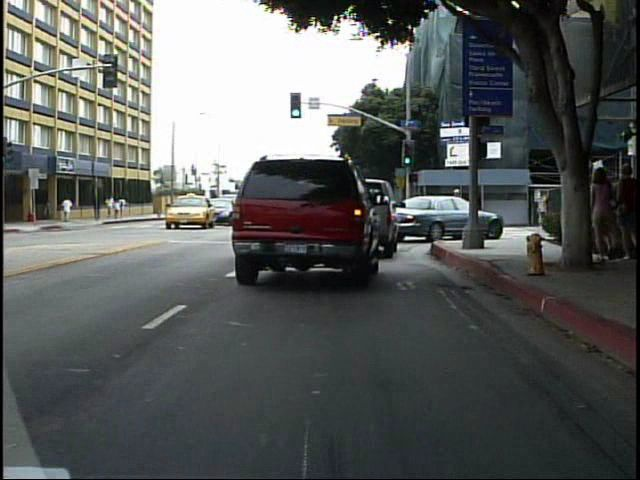person: (590, 169, 620, 267), (617, 166, 638, 264), (449, 185, 466, 229), (61, 194, 75, 226)
